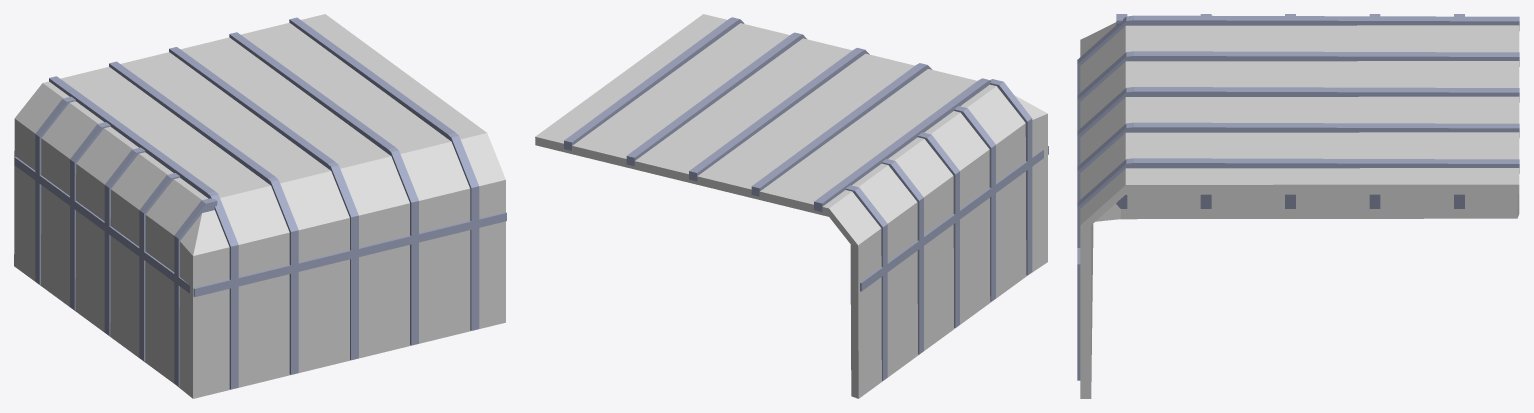
The model's file is WallTopCorner.fbx.
3 views of the same model, side by side, from view 1: azimuth 30°, elevation 25°; view 2: azimuth 150°, elevation 25°; view 3: azimuth 270°, elevation 25° (orthographic). The views are drawn at different scales.
Parts seen in each view (by area): view 1: 立方体.050; view 2: 立方体.050; view 3: 立方体.050.
Part boxes in pixels (x1,y1,x2,y2): 立方体.050: (14, 14, 506, 398); 立方体.050: (535, 14, 1048, 398); 立方体.050: (1077, 14, 1519, 398).
Size of the model in its own units: 802 by 443 by 808.
